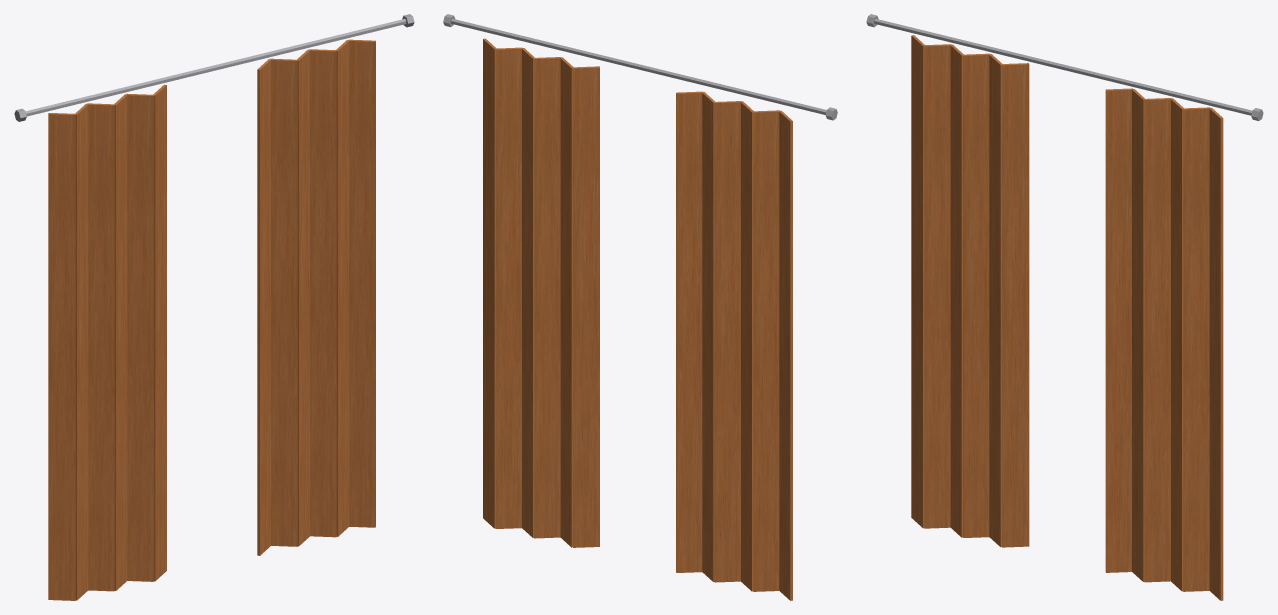
File: Curtain.fbx
3 views of the same model, side by side, from view 1: azimuth 30°, elevation 25°; view 2: azimuth 150°, elevation 25°; view 3: azimuth 330°, elevation 25° (orthographic).
Visible parts, largest first — view 1: Curtain; view 2: Curtain; view 3: Curtain.
Part boxes in pixels (x1,y1,x2,y2): Curtain: [14, 14, 414, 600]; Curtain: [443, 14, 837, 600]; Curtain: [866, 14, 1263, 600].
Bounding box in the file's own units: 1.85 × 2.25 × 0.082.
